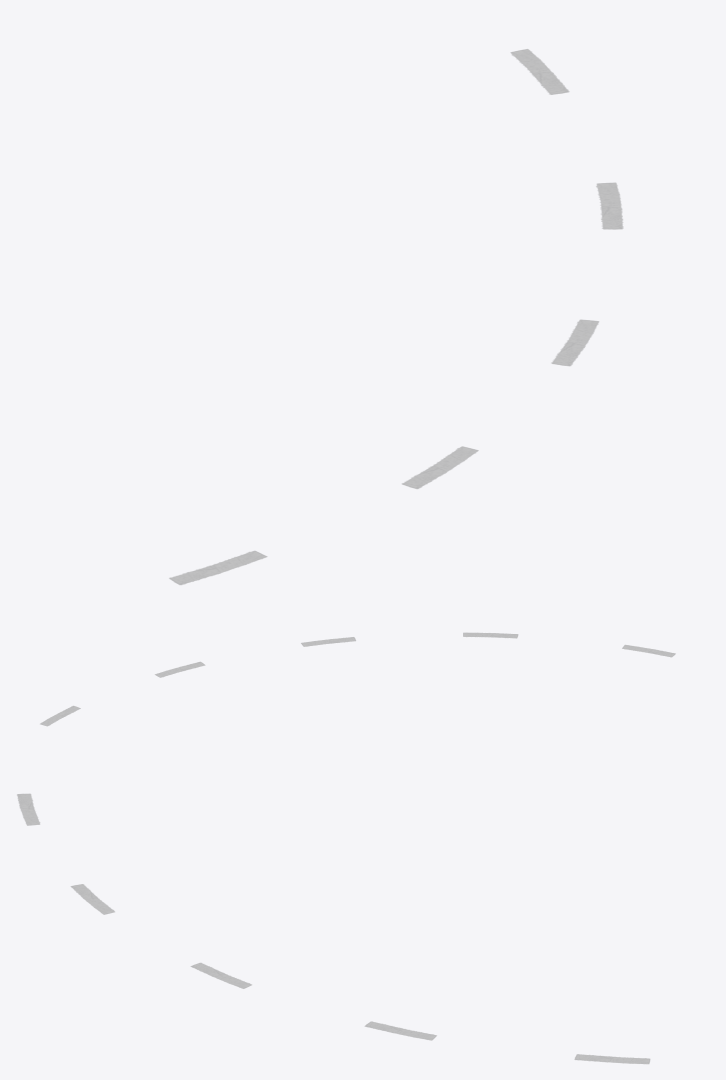
File: decal_curve_4laneshort.glb
The picture shows the model from 3 angles, top to bottom: view 1: azimuth 30°, elevation 25°; view 2: azimuth 150°, elevation 25°; view 3: azimuth 270°, elevation 25°; orthographic projection. The views are drawn at different scales.
Parts seen in each view (by area): view 1: Decal_Curve_4LaneShort; view 2: Decal_Curve_4LaneShort; view 3: Decal_Curve_4LaneShort.
Part boxes in pixels (box(x1,y1,x2,y2)): Decal_Curve_4LaneShort: box(169, 49, 622, 584); Decal_Curve_4LaneShort: box(40, 632, 675, 726); Decal_Curve_4LaneShort: box(17, 794, 649, 1063).
Bounding box in the file's own units: 9.1 × 0 × 9.1.
Materials: 1 (1 with a texture image).
